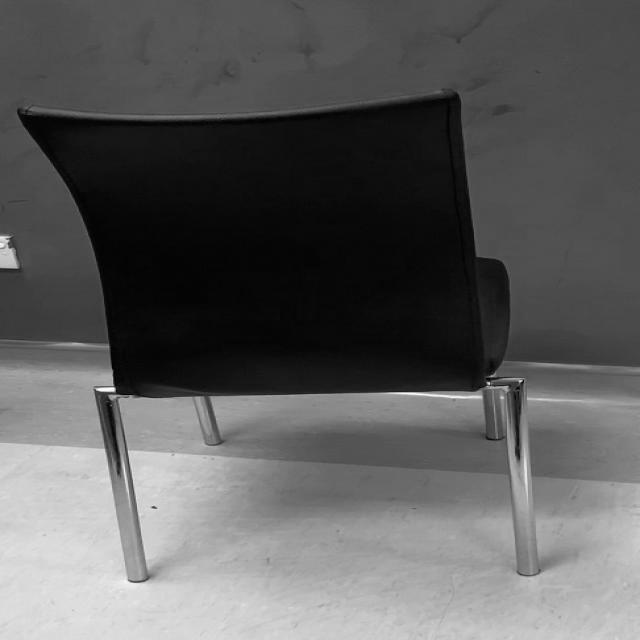chair: (14, 86, 578, 586)
